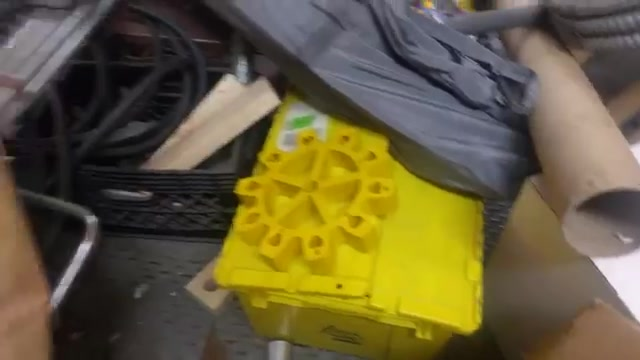gear: (225, 119, 413, 281)
